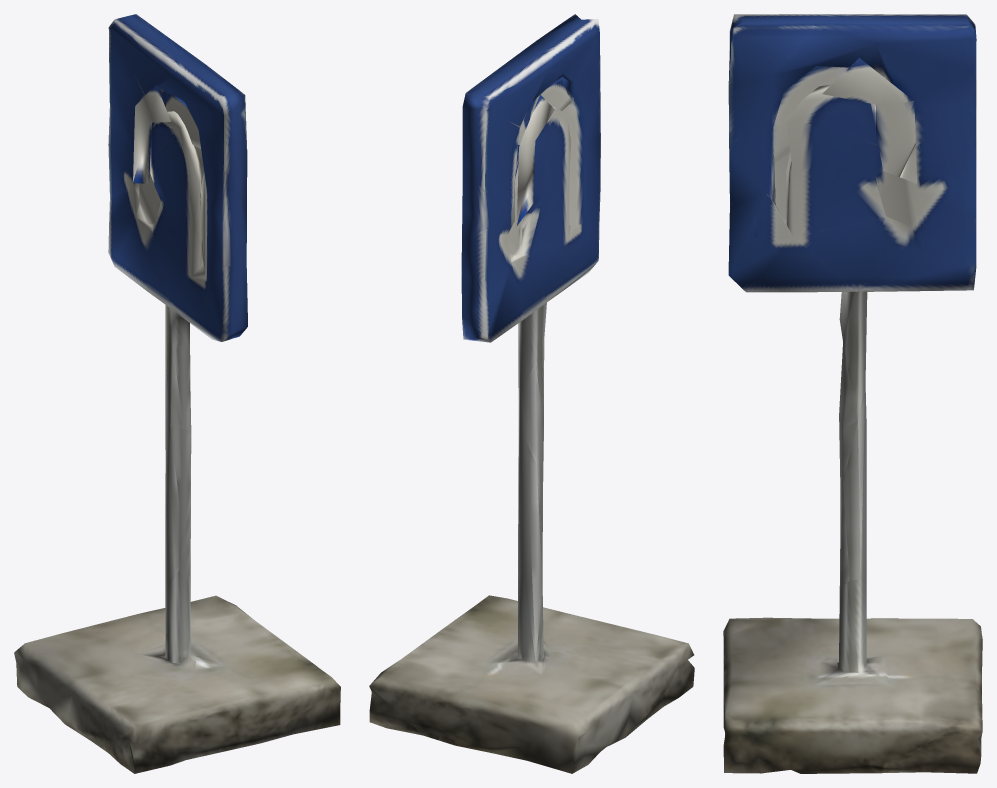
File: putar_kanan.glb
3 views of the same model, side by side, from view 1: azimuth 30°, elevation 25°; view 2: azimuth 150°, elevation 25°; view 3: azimuth 270°, elevation 25° (orthographic). The views are drawn at different scales.
Parts seen in each view (by area): view 1: tripo_node_6b93a14c; view 2: tripo_node_6b93a14c; view 3: tripo_node_6b93a14c.
Part boxes in pixels (x1,y1,x2,y2): tripo_node_6b93a14c: (14,14,340,773); tripo_node_6b93a14c: (369,14,694,773); tripo_node_6b93a14c: (723,14,982,773).
Bounding box in the file's own units: 33.6 × 99.9 × 33.56.
1 material, 1 textured.
